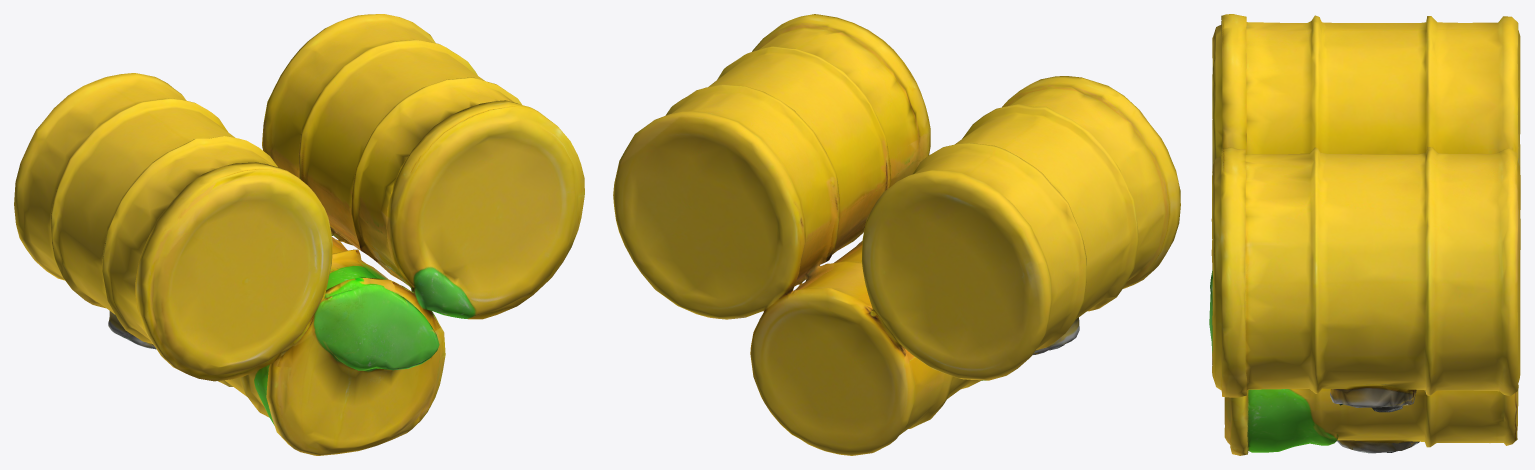
File: Torio_antes.fbx
3 renders of one model, left to right at view 1: azimuth 30°, elevation 25°; view 2: azimuth 150°, elevation 25°; view 3: azimuth 270°, elevation 25°, orthographic. The views are drawn at different scales.
Visible parts, largest first — view 1: Mesh_0.015; view 2: Mesh_0.015; view 3: Mesh_0.015.
Boxes of the visible parts, x1,y1,x2,y2 form: Mesh_0.015: (14, 14, 584, 455); Mesh_0.015: (613, 14, 1180, 455); Mesh_0.015: (1209, 14, 1520, 455).
Bounding box in the file's own units: 0.3631 × 0.2489 × 0.2026.
Materials: 1 (1 with a texture image).
